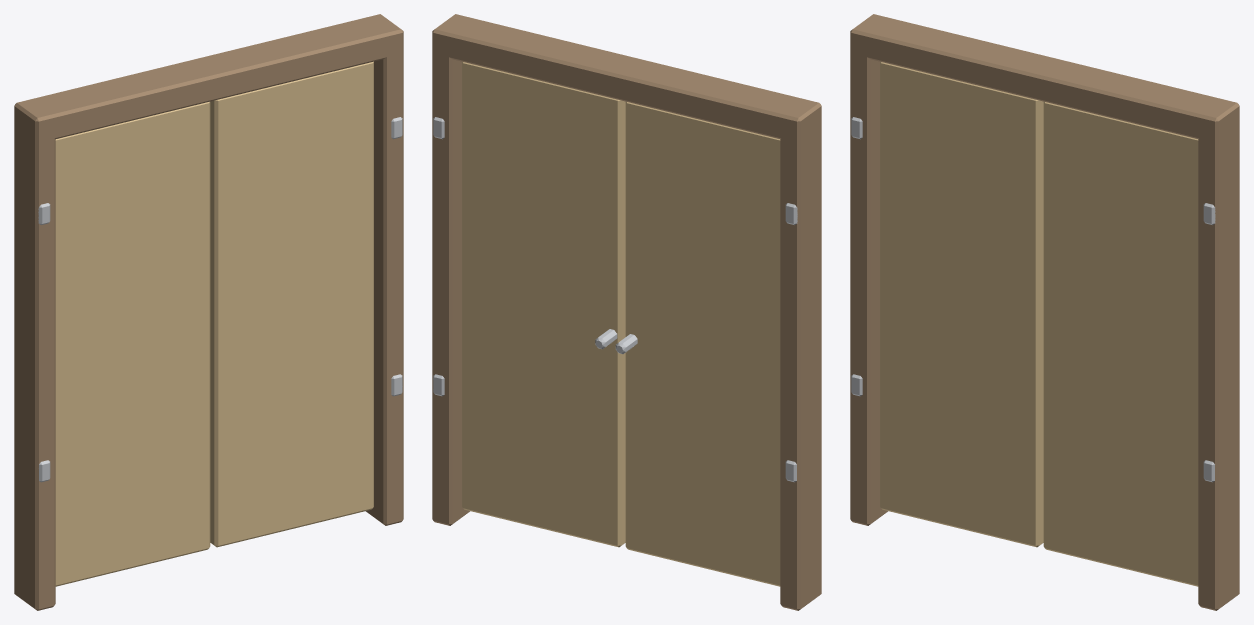
The model's file is 构件_双开门_01.fbx.
The picture shows the model from 3 angles, left to right: view 1: azimuth 30°, elevation 25°; view 2: azimuth 150°, elevation 25°; view 3: azimuth 330°, elevation 25°; orthographic projection.
Visible parts, largest first — view 1: 门扇.001, 门框.002, 合页.001; view 2: 门扇.001, 门框.002, 合页.001, 把手.006; view 3: 门扇.001, 门框.002, 合页.001.
Part boxes in pixels (box(x1,y1,x2,y2)): 门扇.001: box(55, 61, 373, 586); 门框.002: box(14, 14, 403, 610); 合页.001: box(38, 117, 402, 482); 门扇.001: box(462, 61, 780, 586); 门框.002: box(432, 14, 821, 610); 合页.001: box(433, 117, 797, 482); 把手.006: box(595, 329, 637, 354); 门扇.001: box(880, 61, 1198, 586); 门框.002: box(850, 14, 1239, 610); 合页.001: box(851, 117, 1215, 482).
Size of the model in its own units: 180 by 230 by 26.
